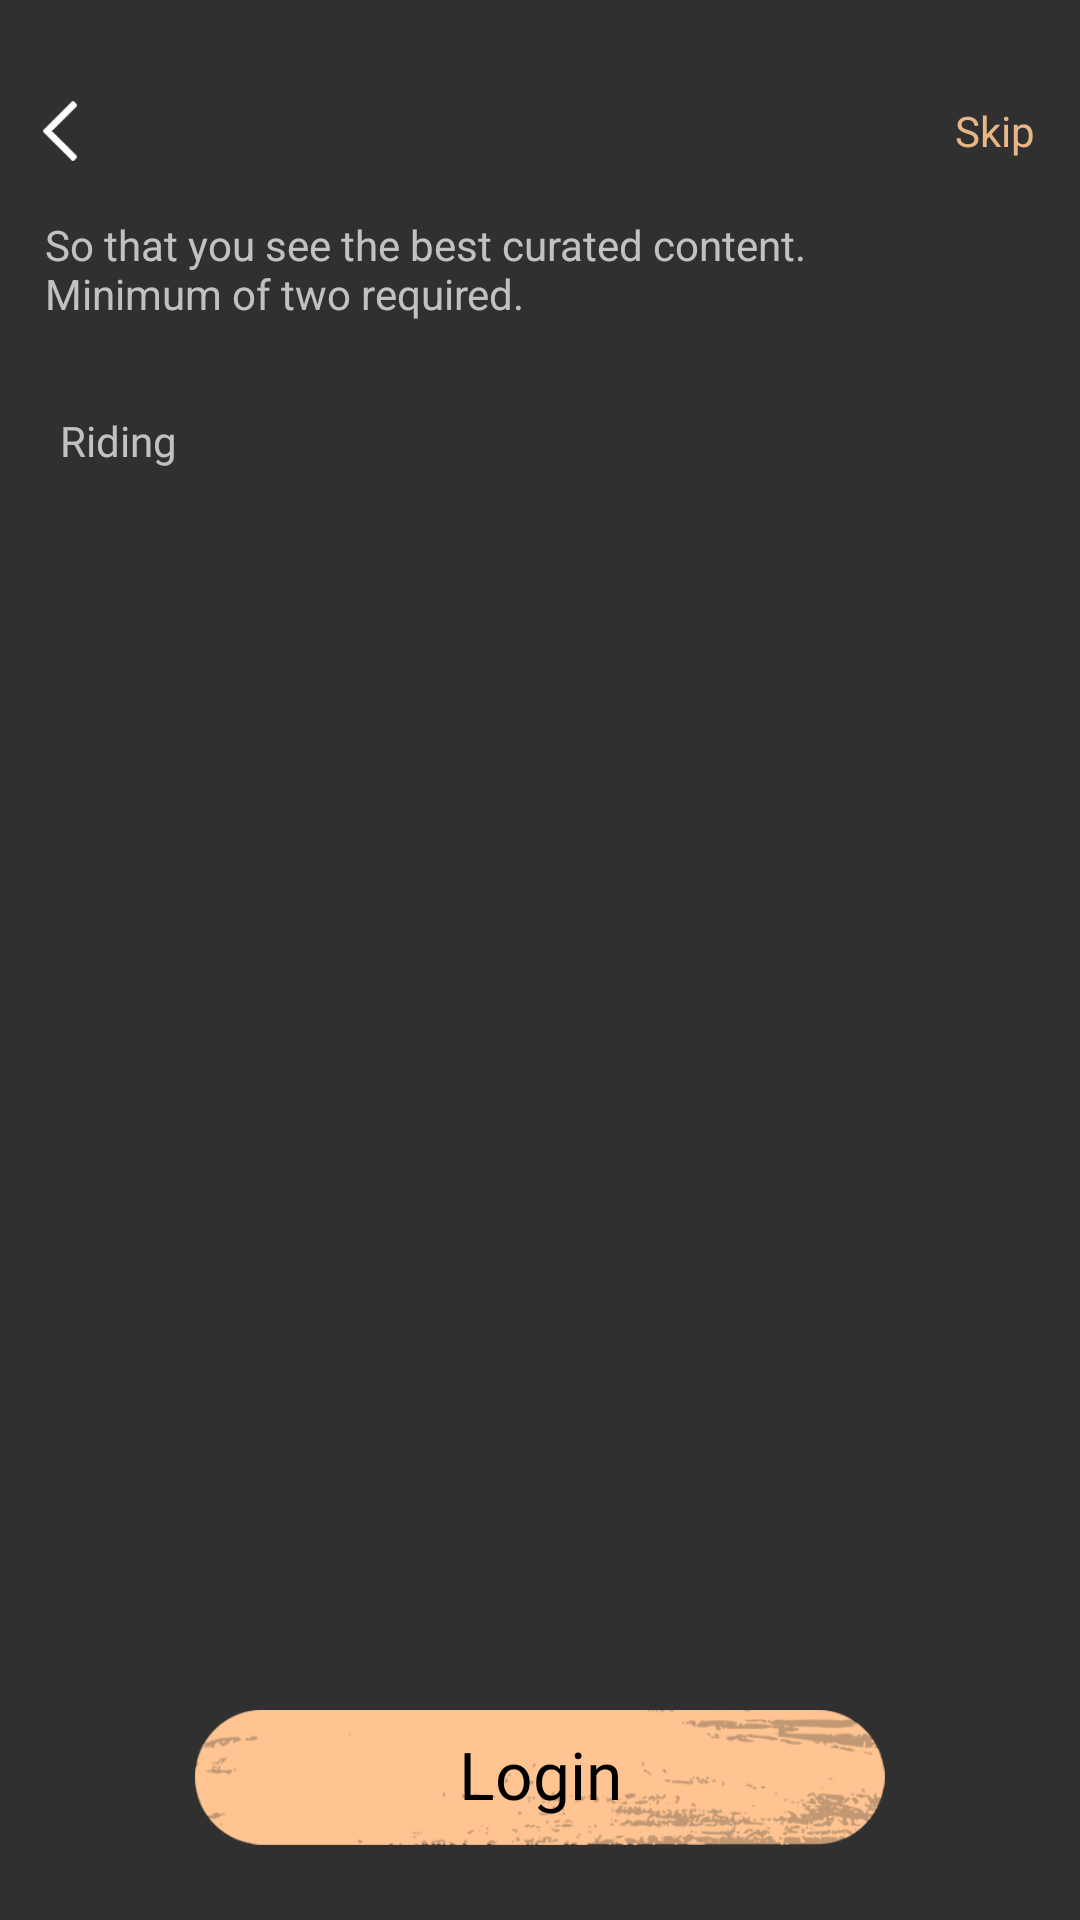

Icons on this 1080px×1920px Android screen, each with the point to tap as point (x, y):
back arrow: point (60, 131)
